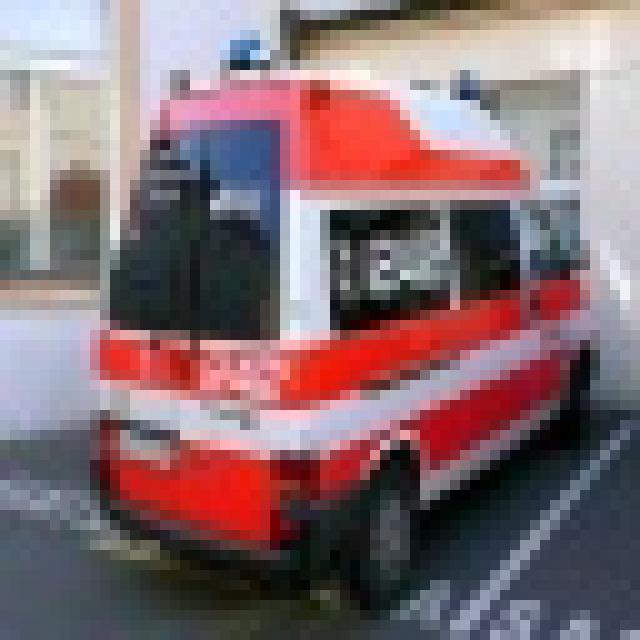Ambulance: (80, 30, 600, 600)
